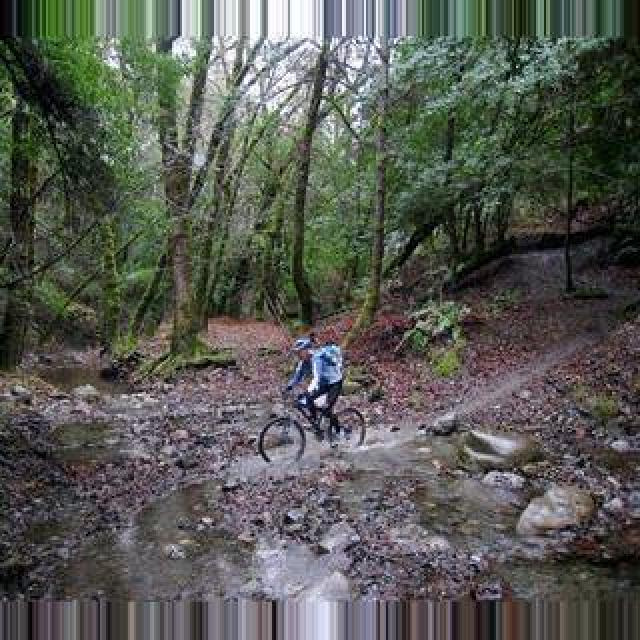MC-Bike: (284, 336, 346, 440)
Person: (255, 383, 369, 465)
